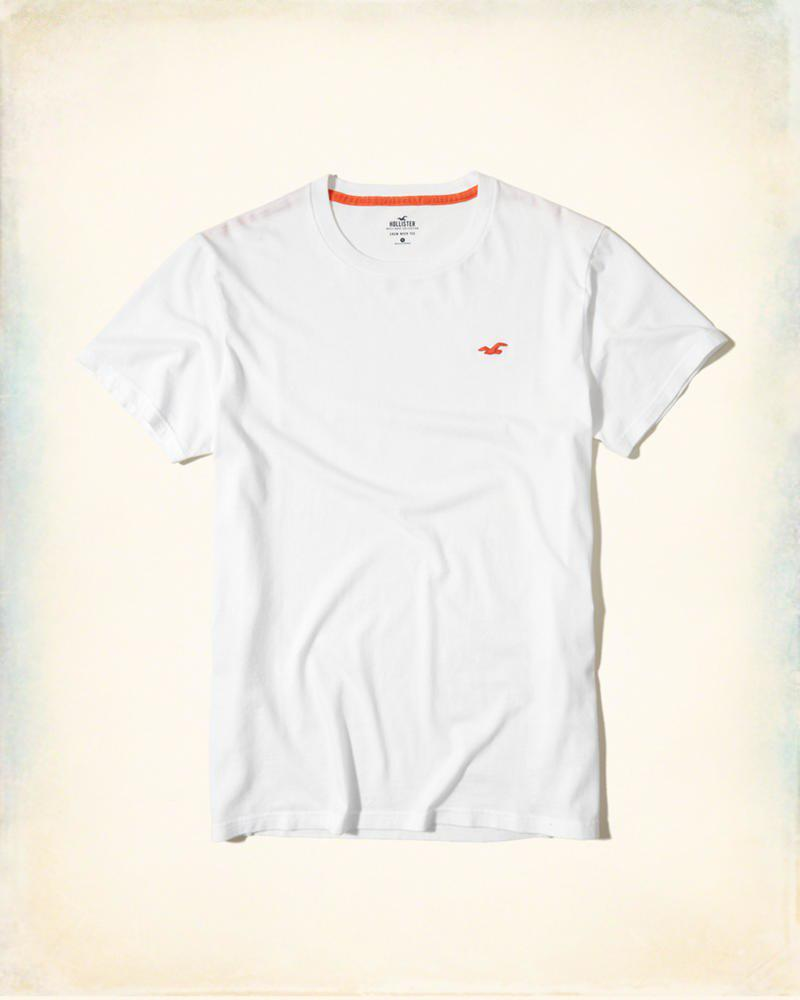teeshirt: (73, 154, 770, 898)
